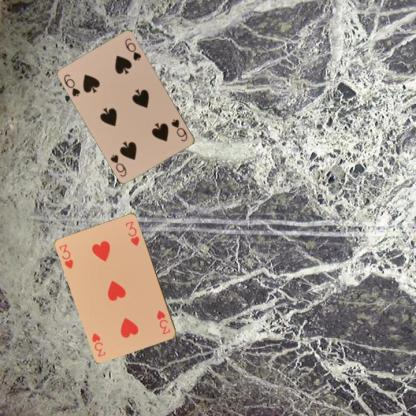3h: (56, 241, 74, 270), (154, 308, 172, 336)
6s: (169, 116, 189, 142), (62, 72, 82, 98)
